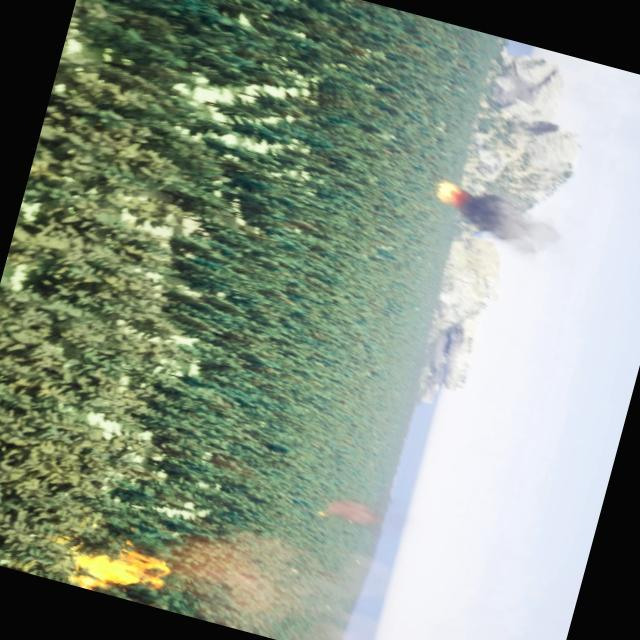fire: (50, 524, 176, 608), (430, 178, 462, 205)
smoke: (163, 511, 401, 640), (454, 188, 564, 262), (313, 492, 382, 535)
